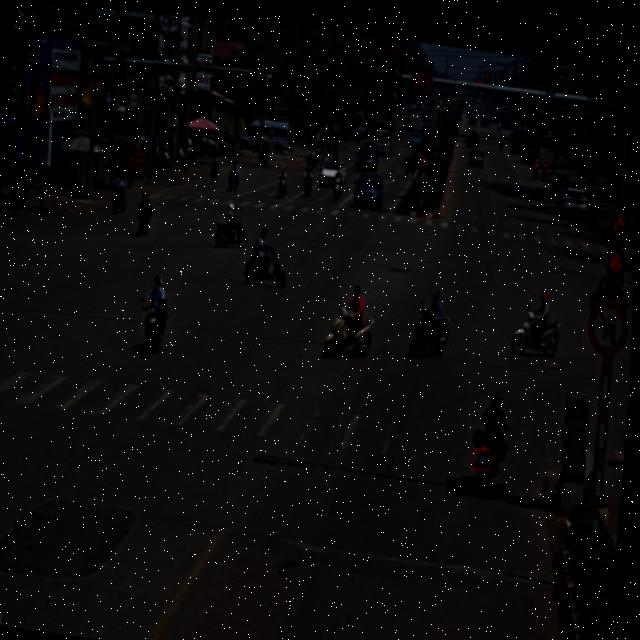Red: (604, 196, 631, 290), (383, 34, 405, 111)
